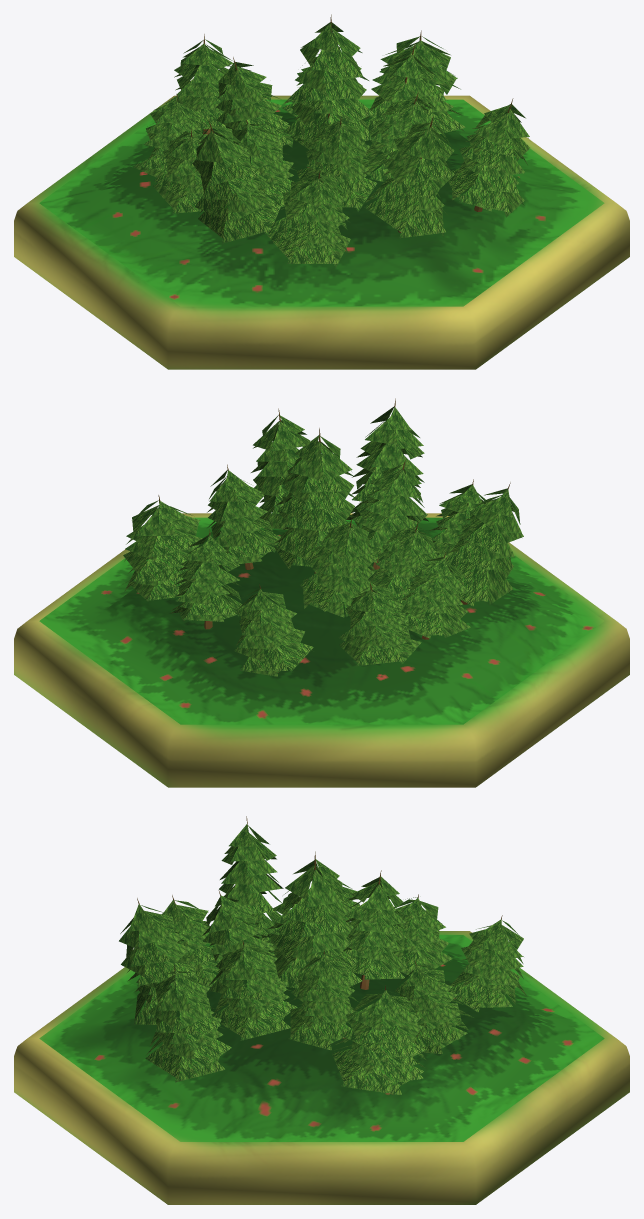
The model's file is Resource_Wood.gltf.
The picture shows the model from 3 angles, top to bottom: view 1: azimuth 30°, elevation 25°; view 2: azimuth 150°, elevation 25°; view 3: azimuth 270°, elevation 25°; orthographic projection.
Visible parts, largest first — view 1: Wood; view 2: Wood; view 3: Wood.
Boxes of the visible parts, left/top/right/bottom form: Wood: left=14, top=14, right=629, bottom=369; Wood: left=14, top=398, right=629, bottom=787; Wood: left=14, top=816, right=629, bottom=1204.
Bounding box in the file's own units: 1.73 × 0.8724 × 2.
Materials: 1 (1 with a texture image).
